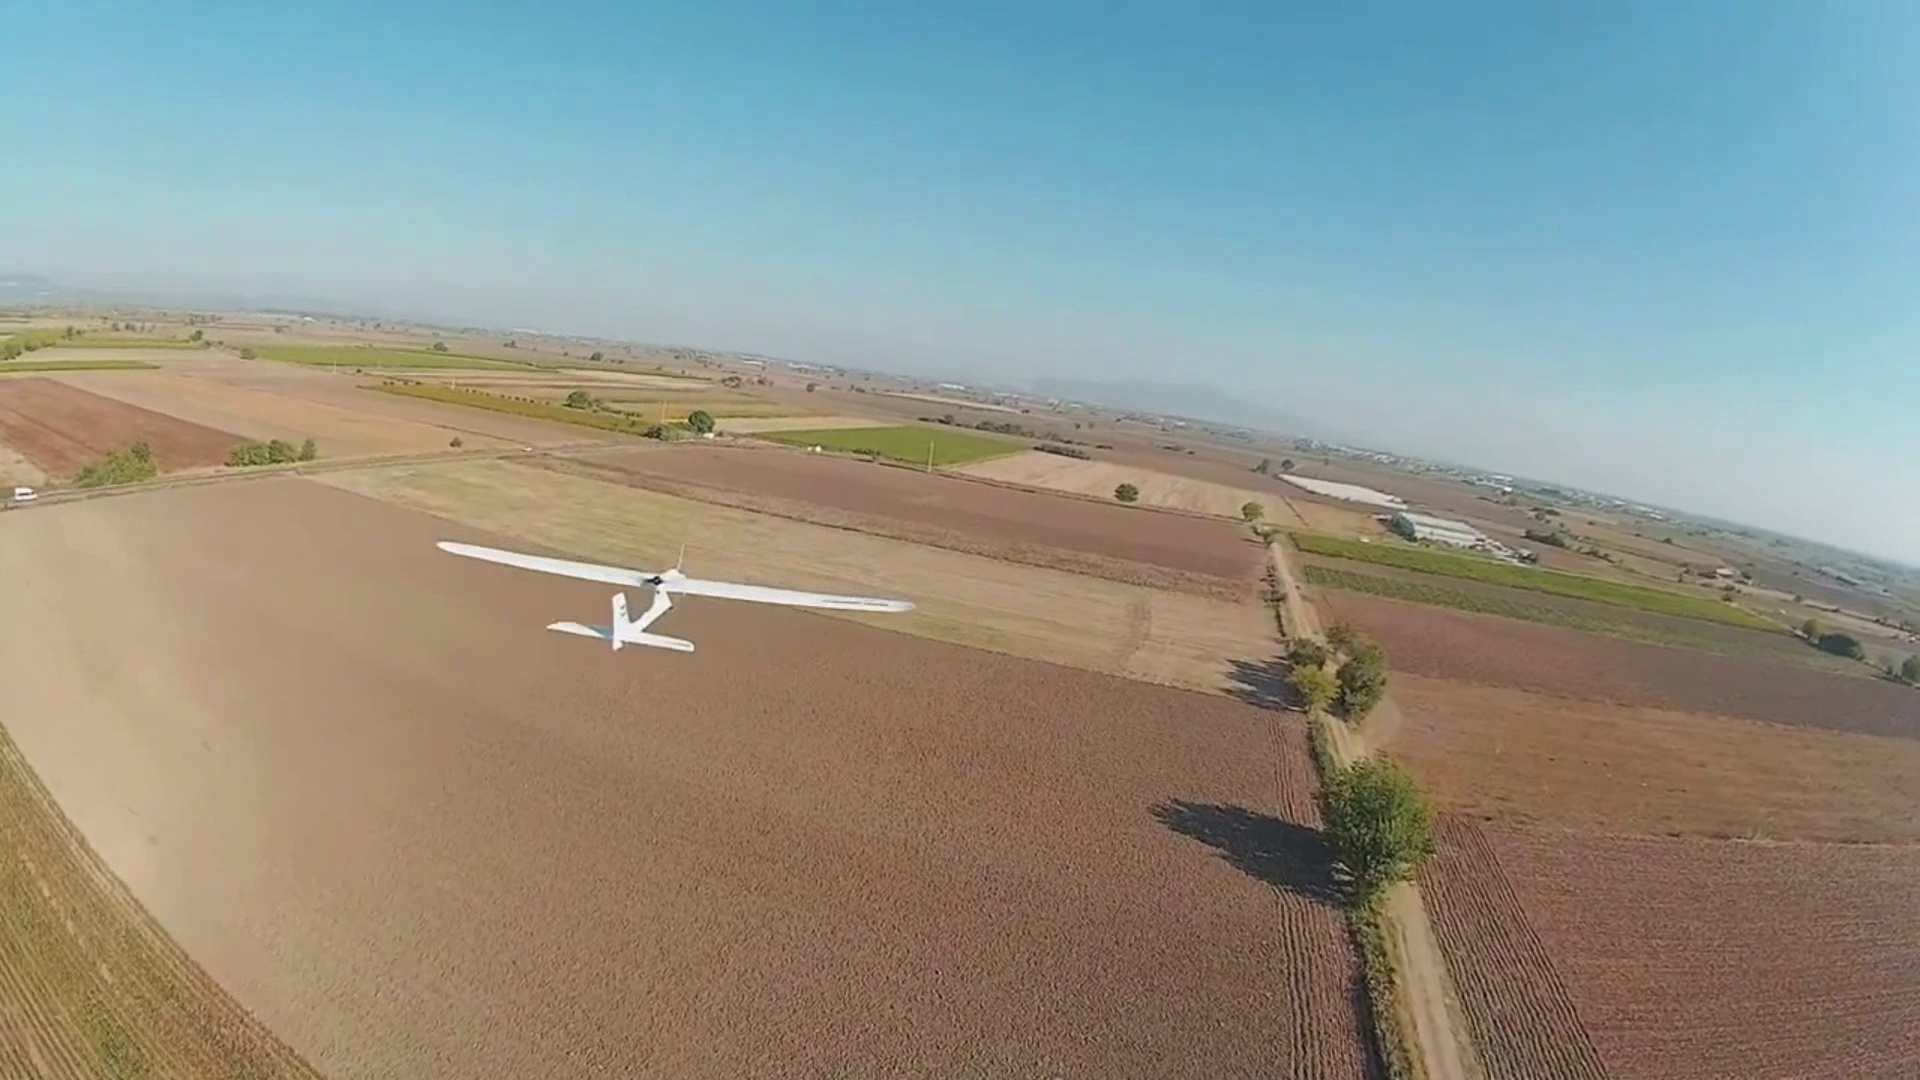airplane: (438, 541, 914, 653)
